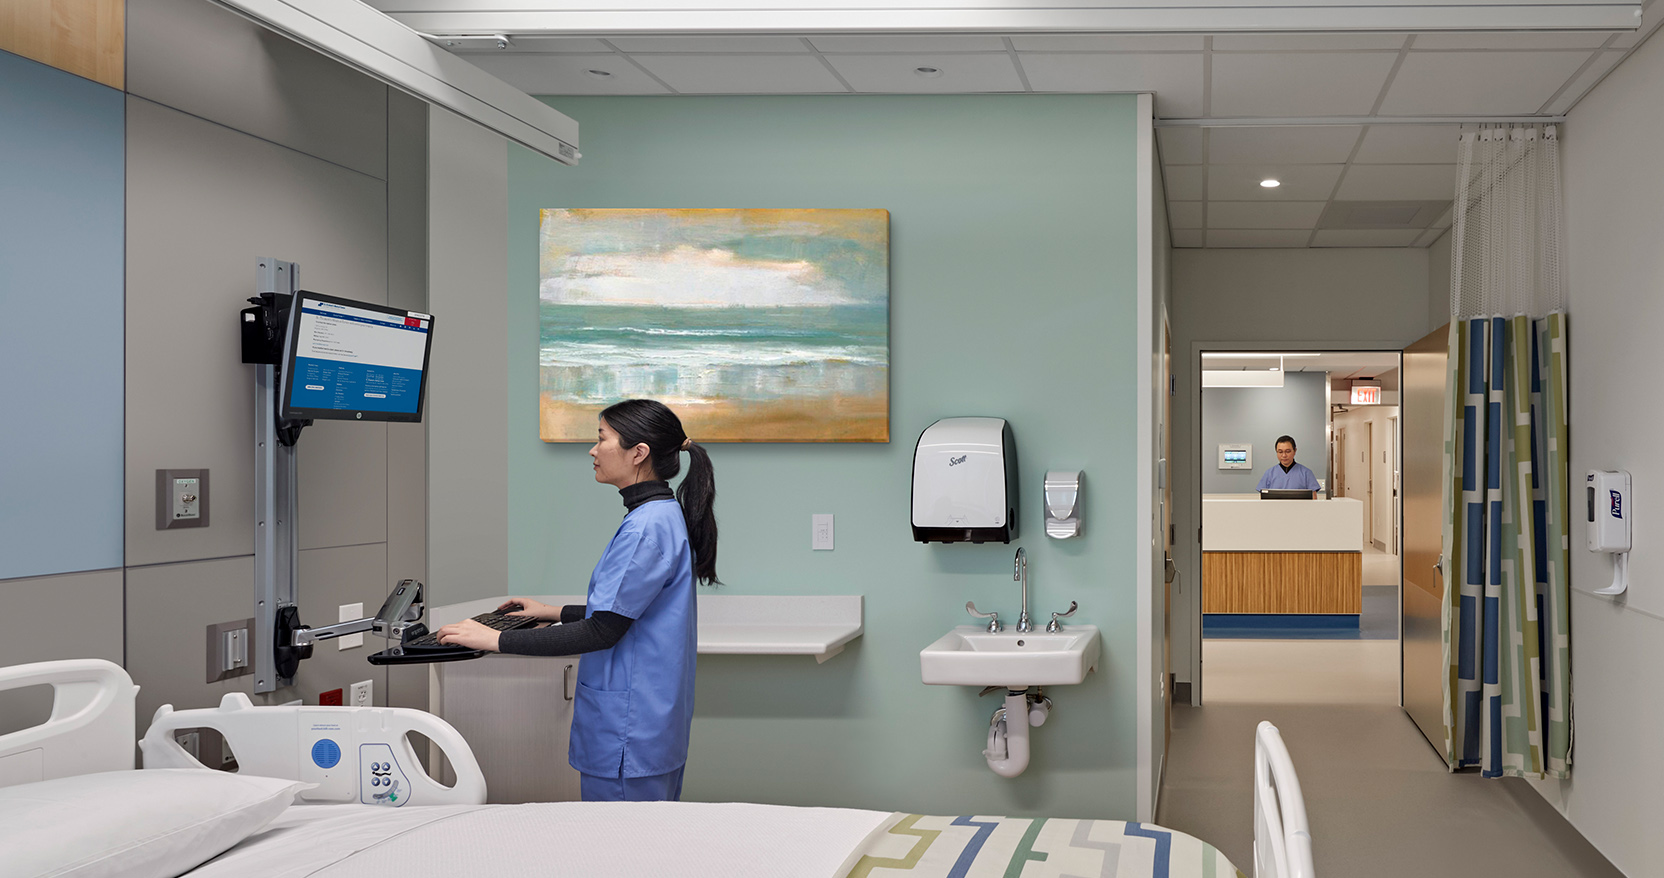bedrail: (148, 701, 489, 798)
computer: (289, 292, 438, 429), (1260, 487, 1312, 497)
counter: (1197, 499, 1384, 639)
countertop: (471, 589, 855, 652), (1201, 489, 1357, 508)
curtain: (1436, 126, 1581, 763)
dispenser: (914, 411, 1017, 548), (1582, 472, 1632, 606), (1044, 474, 1085, 548)
door_handle: (1423, 555, 1451, 595)
faucet: (965, 546, 1081, 630)
foot_board: (1221, 711, 1331, 878)
handle: (1166, 551, 1191, 603)
hospital_bed: (1, 681, 1324, 878)
keyboard: (410, 602, 536, 652)
sink: (922, 630, 1106, 698)
staff: (438, 354, 720, 794), (1256, 434, 1325, 499)
